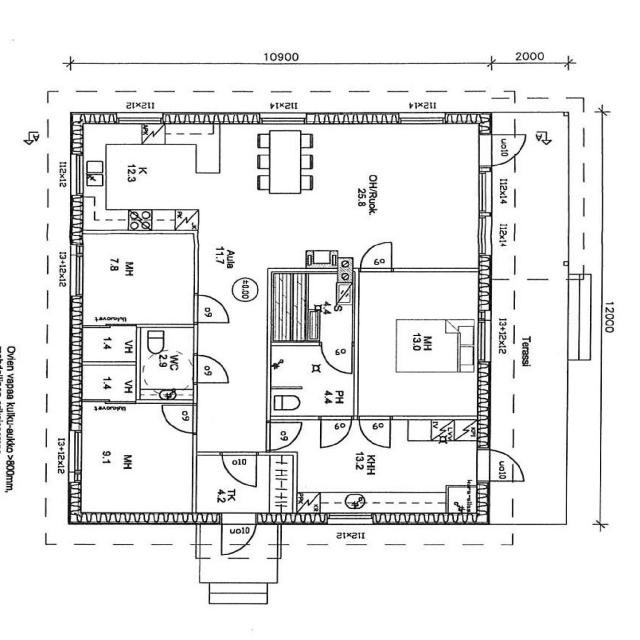door: (140, 324, 198, 402), (220, 517, 257, 557), (220, 452, 258, 488), (318, 416, 354, 450), (193, 352, 231, 384), (161, 402, 198, 434), (358, 415, 392, 449), (194, 293, 231, 324), (492, 133, 526, 166), (359, 240, 395, 271), (289, 79, 312, 94)
window: (67, 243, 87, 299), (67, 428, 85, 480), (69, 152, 86, 197), (398, 113, 447, 128), (324, 512, 376, 525), (258, 113, 305, 125), (190, 322, 203, 356), (508, 376, 519, 397), (43, 307, 52, 327)
zone: (350, 260, 478, 415), (77, 124, 214, 232), (75, 403, 195, 513), (76, 231, 198, 325), (269, 345, 356, 417), (268, 270, 347, 342), (139, 326, 195, 402), (77, 363, 138, 402), (78, 326, 138, 364), (446, 484, 481, 516), (268, 421, 302, 452)
